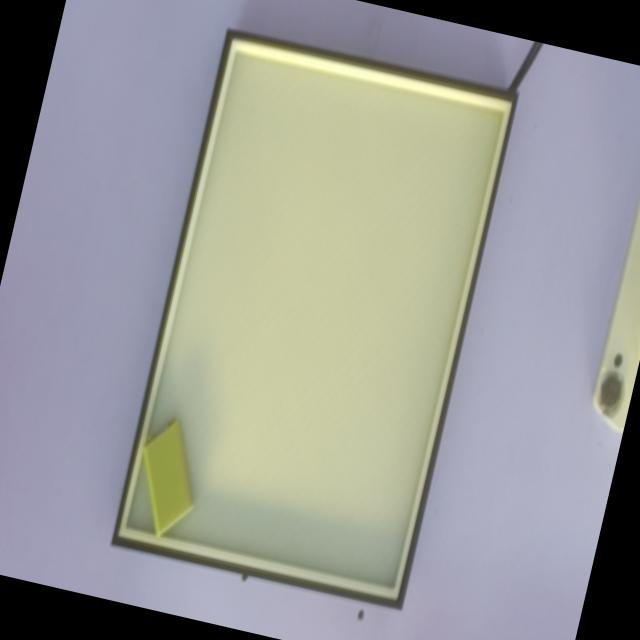bateria: (141, 419, 193, 538)
mesa: (110, 27, 518, 611)
